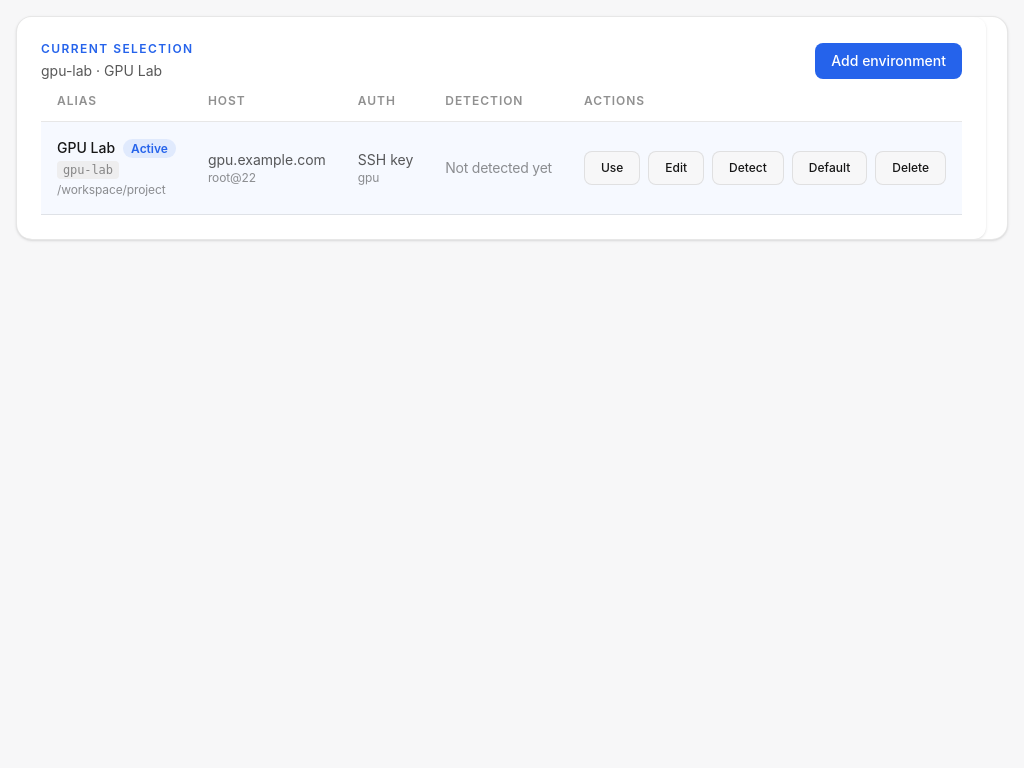
EnvironmentsPage › shows a toast when detection falls back to personal tmux
expect the text "GPU Lab" is shown: met, box [57,139,115,156]
Click the button "Detect" at (748, 168), box [712,151,784,185]
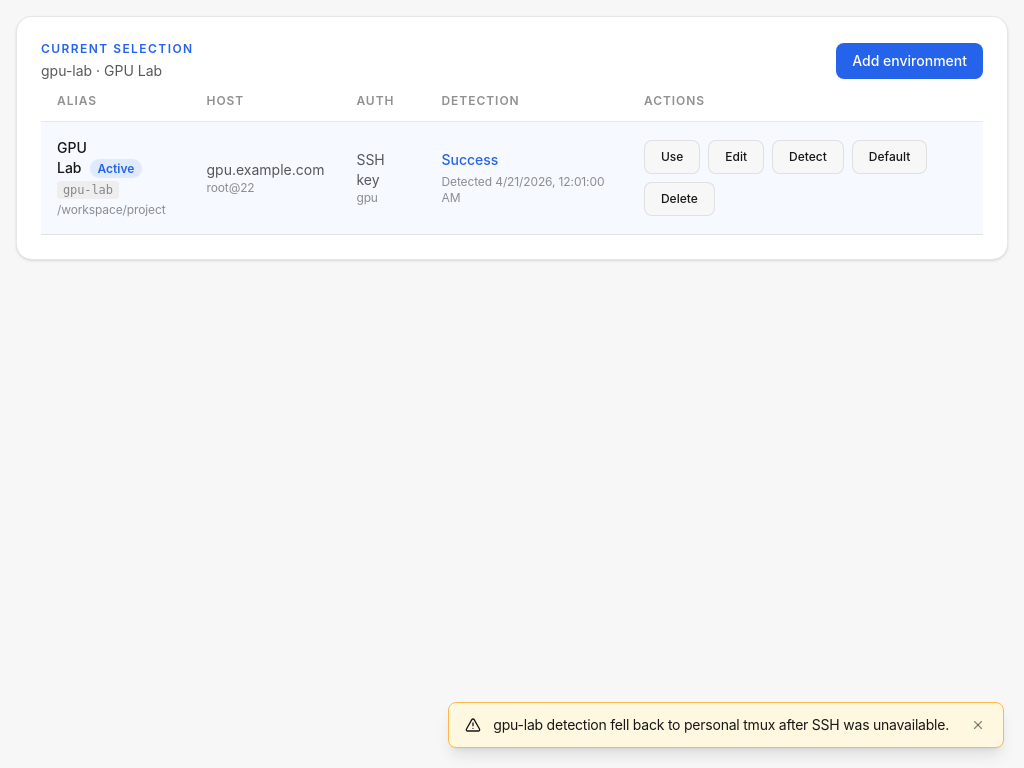
expect the text "gpu-lab detection fell back to personal tmux after SSH was unavailable." is shown: met, box [493,715,949,735]
